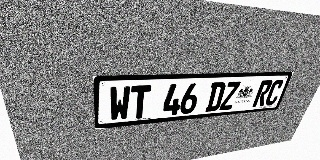4: (162, 84, 184, 116)
6: (179, 83, 201, 114)
C: (263, 79, 285, 106)
D: (205, 82, 227, 112)
R: (252, 80, 273, 107)
T: (130, 85, 151, 119)
W: (109, 86, 131, 121)
Z: (219, 81, 241, 110)
